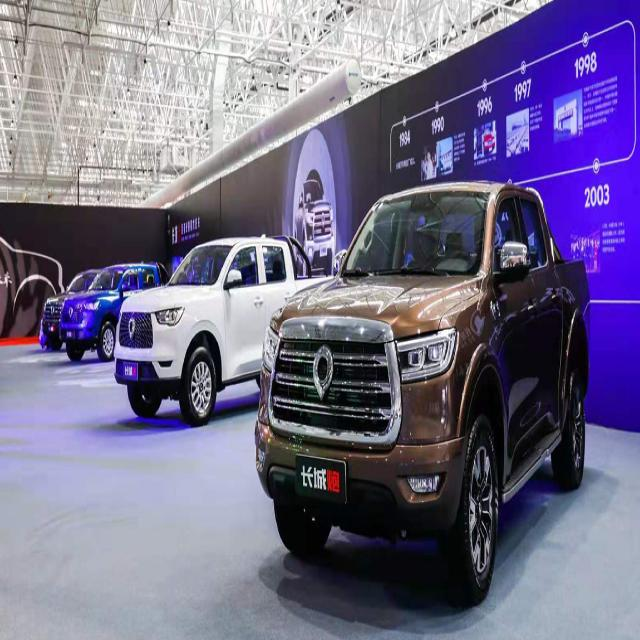Pickup Trucks: (254, 182, 593, 606), (113, 237, 259, 427), (59, 268, 115, 361)
